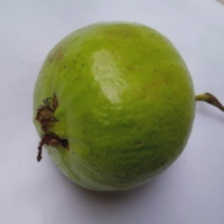guava: (6, 12, 202, 206)
